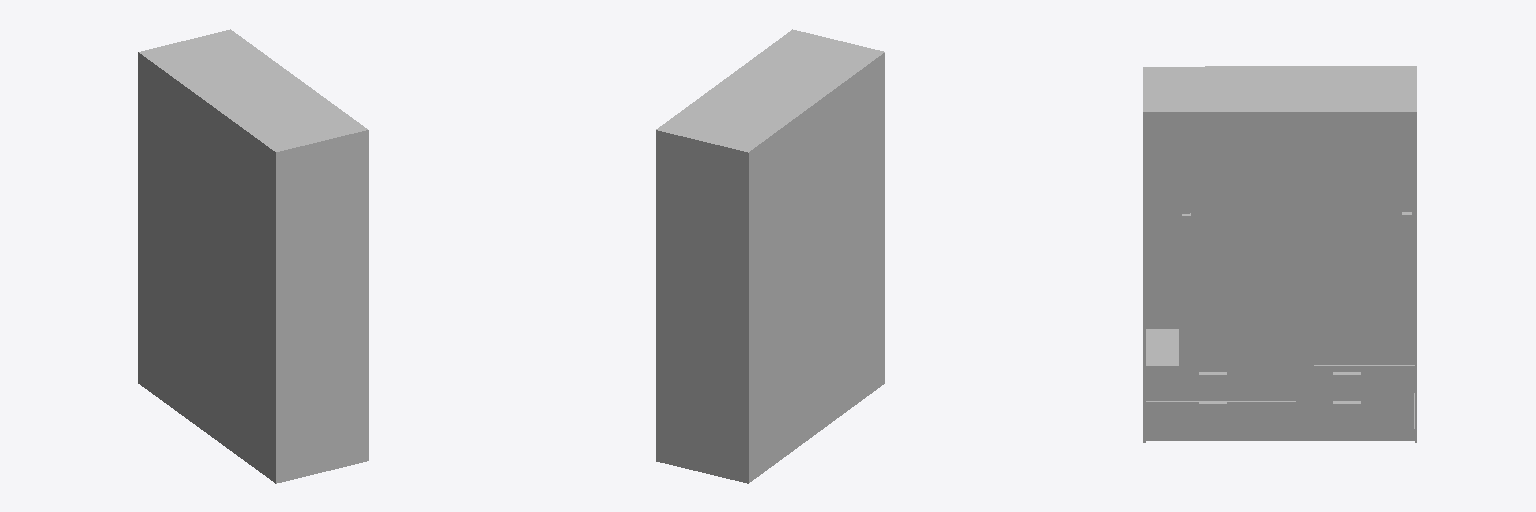
File: closet.obj
The picture shows the model from 3 angles: view 1: azimuth 30°, elevation 25°; view 2: azimuth 150°, elevation 25°; view 3: azimuth 270°, elevation 25°; orthographic projection.
Parts seen in each view (by area): view 1: parenthandle_06drawer_04; view 2: parenthandle_06drawer_04; view 3: parenthandle_06drawer_04.
Part boxes in pixels (x1,y1,x2,y2): parenthandle_06drawer_04: (138,29,368,483); parenthandle_06drawer_04: (656,29,884,483); parenthandle_06drawer_04: (1143,66,1416,442).
Size of the model in its own units: 7.07 by 22.77 by 17.12.